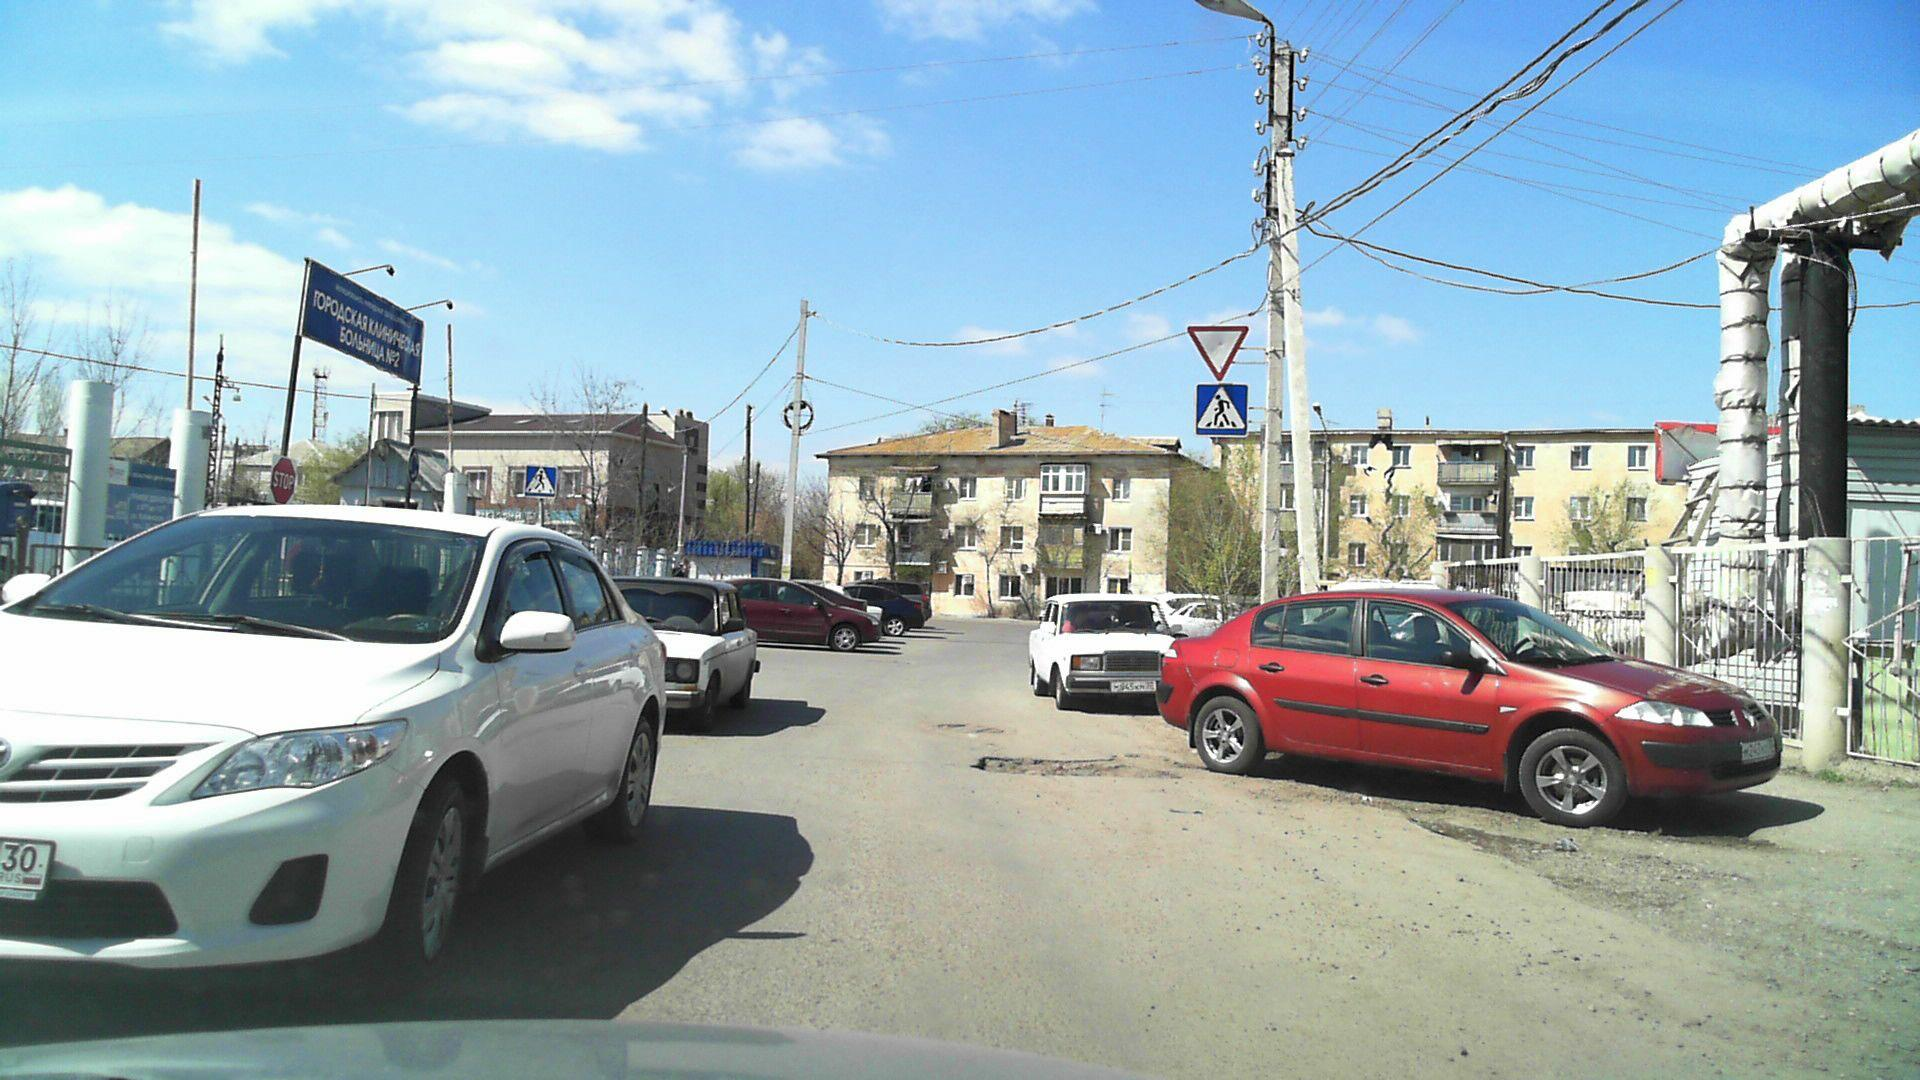2_4: (1187, 324, 1249, 382)
2_5: (269, 454, 295, 504)
5_19_1: (1196, 382, 1247, 435)
5_19_2: (524, 464, 555, 497)
